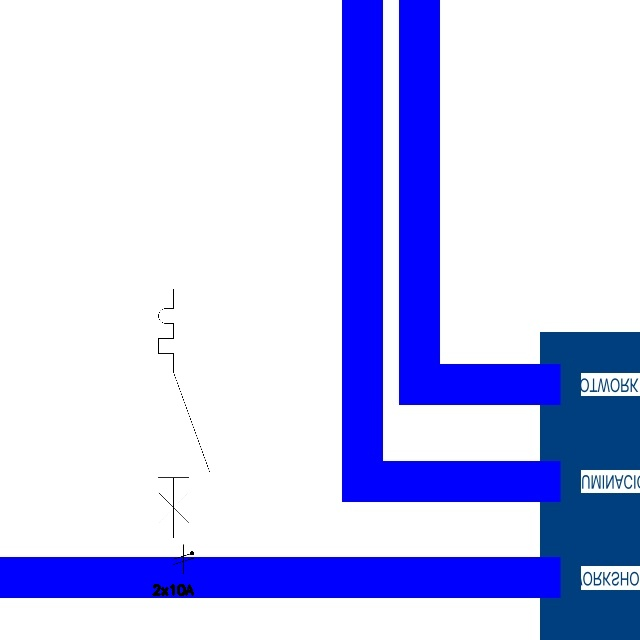interruptor_termomagnetico: (152, 283, 216, 544)
